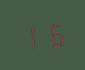one: (19, 21, 41, 50)
six: (42, 20, 64, 48)
